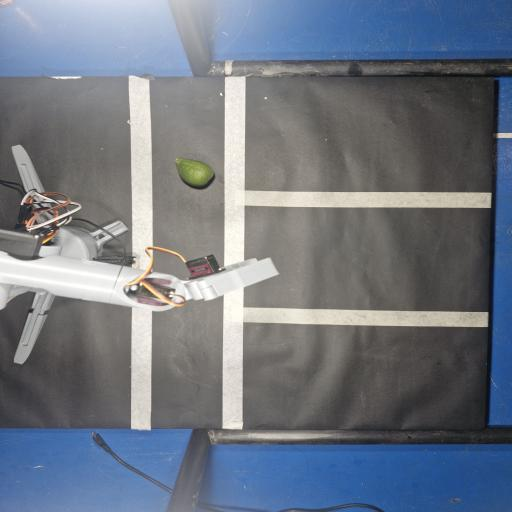higo: (175, 158, 214, 186)
